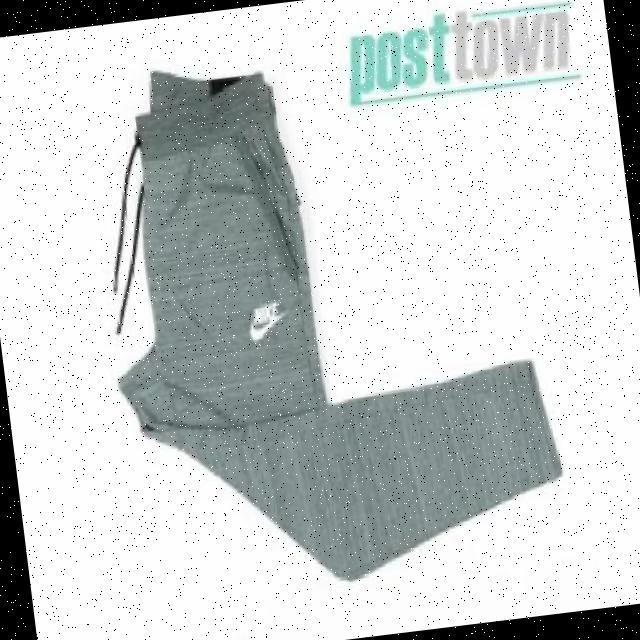Nike: (243, 299, 286, 339)
